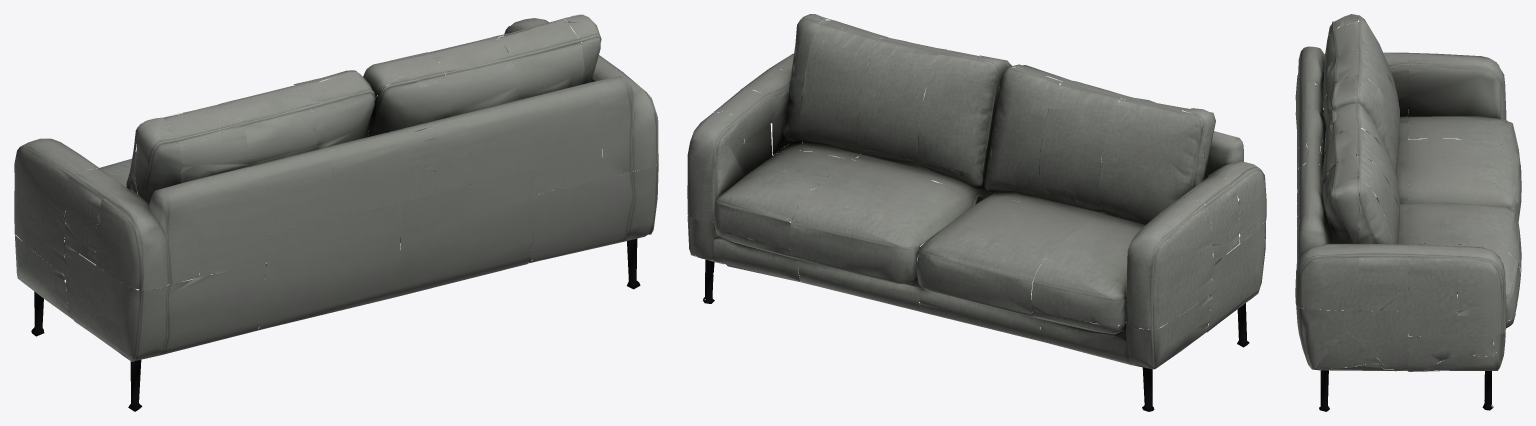
The model's file is lod1_source.glb.
3 views of the same model, side by side, from view 1: azimuth 30°, elevation 25°; view 2: azimuth 150°, elevation 25°; view 3: azimuth 270°, elevation 25° (orthographic). The views are drawn at different scales.
Parts seen in each view (by area): view 1: geometry_0; view 2: geometry_0; view 3: geometry_0.
Part boxes in pixels (<box>): geometry_0: <box>14,14,658,411</box>; geometry_0: <box>687,14,1266,411</box>; geometry_0: <box>1295,14,1521,411</box>.
Size of the model in its own units: 1.8 by 0.8617 by 0.8207.
Materials: 1 (1 with a texture image).
